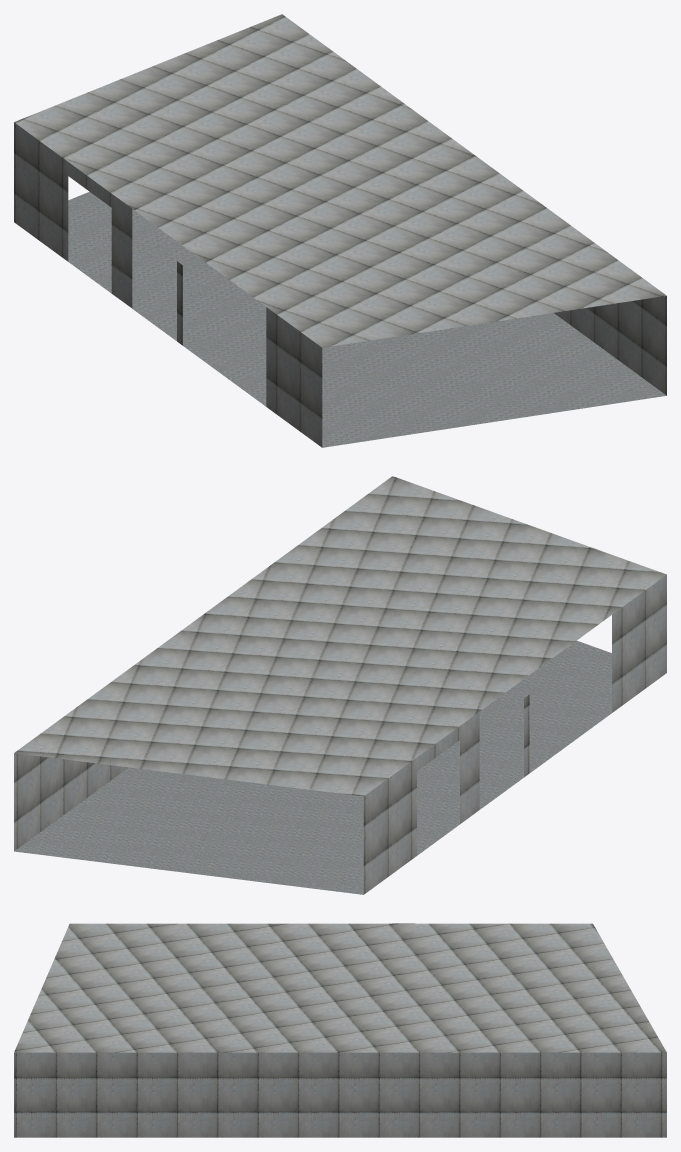
File: south_center.FBX
3 renders of one model, top to bottom at view 1: azimuth 30°, elevation 25°; view 2: azimuth 150°, elevation 25°; view 3: azimuth 270°, elevation 25°, orthographic. The views are drawn at different scales.
Parts seen in each view (by area): view 1: South_Center; view 2: South_Center; view 3: South_Center.
Boxes of the visible parts, x1=… form: South_Center: x1=14, y1=14, x2=666, y2=447; South_Center: x1=14, y1=476, x2=666, y2=894; South_Center: x1=14, y1=923, x2=666, y2=1137.
Size of the model in its own units: 242 by 74.28 by 517.
Materials: 2 (2 with a texture image).
